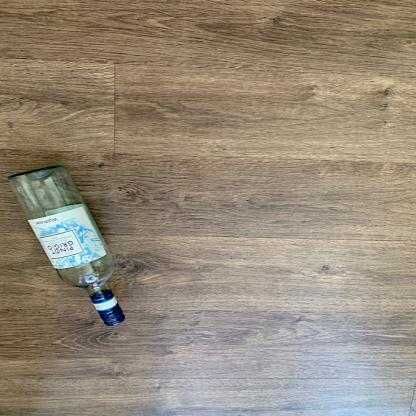trash: (6, 164, 135, 324)
